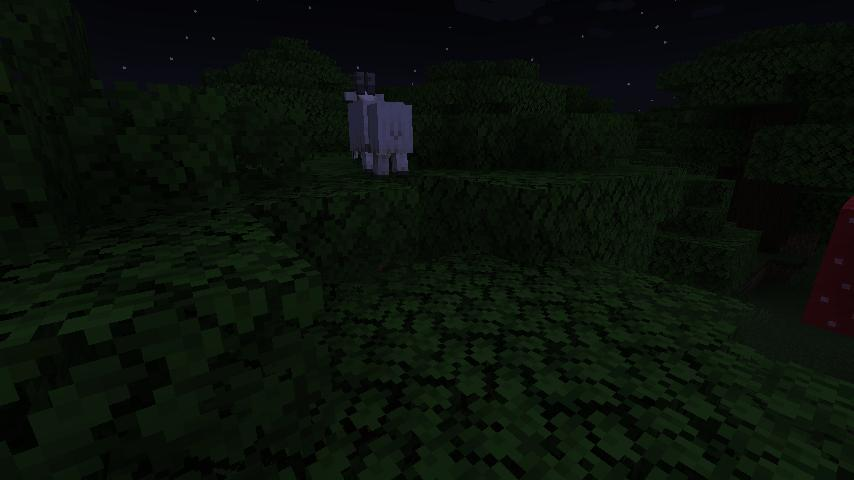goat: (341, 66, 416, 181)
